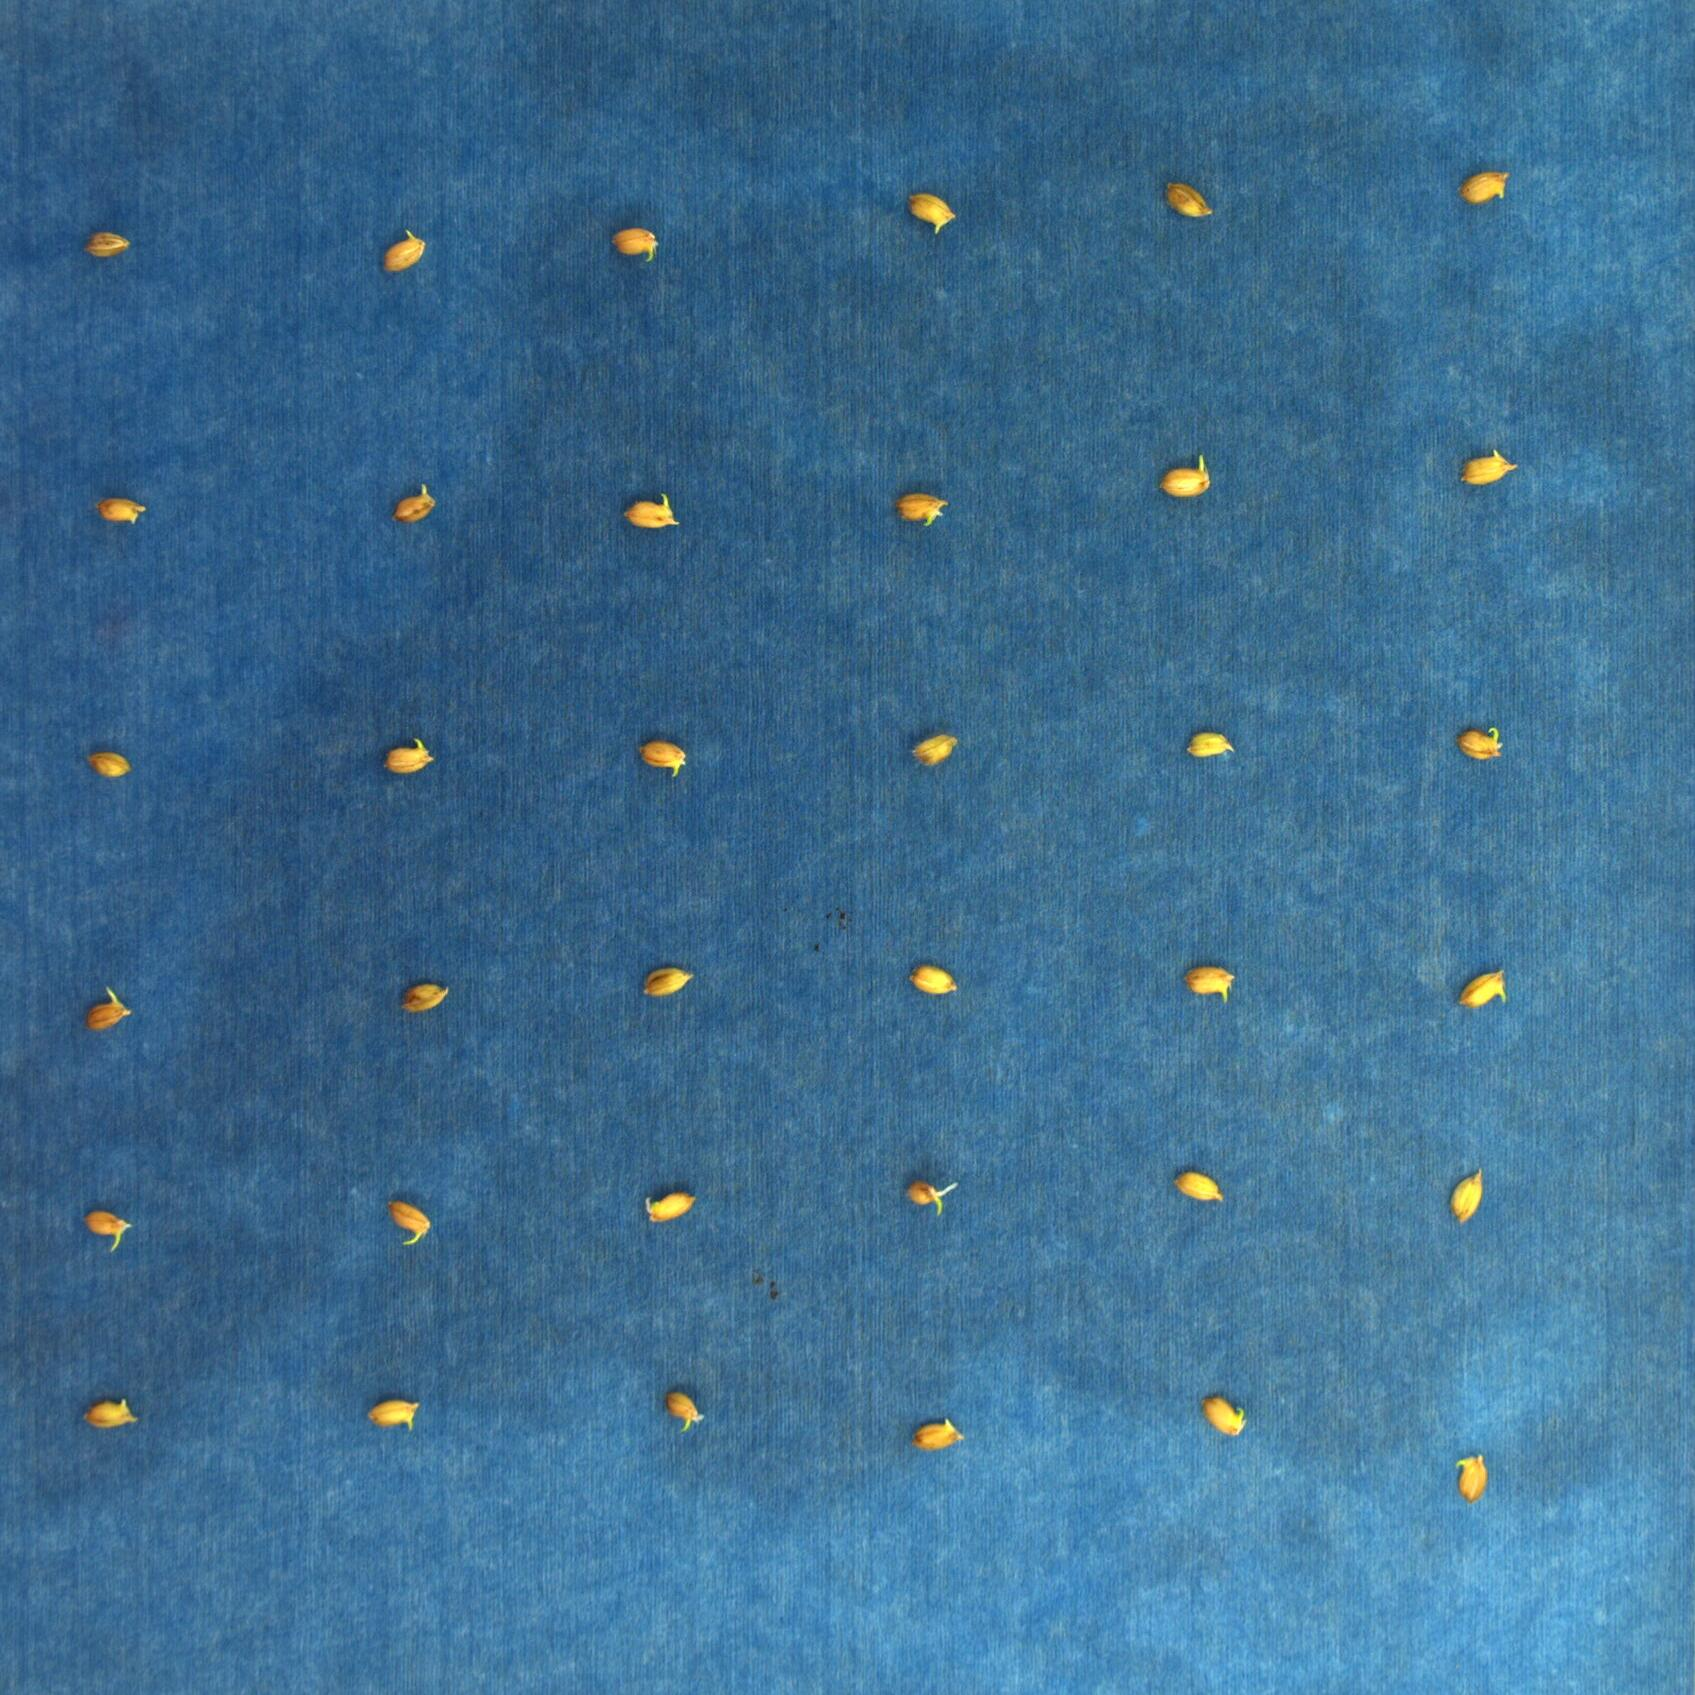not sprout: (1159, 456, 1212, 501), (1450, 1166, 1487, 1228), (1464, 449, 1520, 489), (1458, 969, 1510, 1010), (386, 1200, 432, 1248), (81, 1397, 140, 1433), (905, 1180, 961, 1217), (908, 191, 959, 231), (1184, 964, 1236, 1004), (644, 1191, 695, 1231), (84, 1212, 130, 1256), (1197, 1395, 1245, 1437), (636, 740, 688, 779), (1461, 169, 1510, 208), (626, 494, 675, 532), (383, 740, 433, 779), (906, 961, 956, 1000), (84, 987, 129, 1029), (1169, 1172, 1226, 1205), (1167, 182, 1215, 220), (366, 1397, 421, 1431), (908, 1419, 962, 1453), (910, 731, 959, 768), (1456, 1453, 1492, 1504), (897, 492, 947, 528), (1456, 728, 1506, 764), (385, 228, 425, 272), (393, 484, 439, 522), (396, 981, 449, 1014), (664, 1389, 703, 1433), (640, 969, 692, 1000), (85, 750, 132, 784), (93, 497, 147, 525), (608, 228, 657, 256), (82, 230, 132, 256), (1187, 733, 1236, 759)
